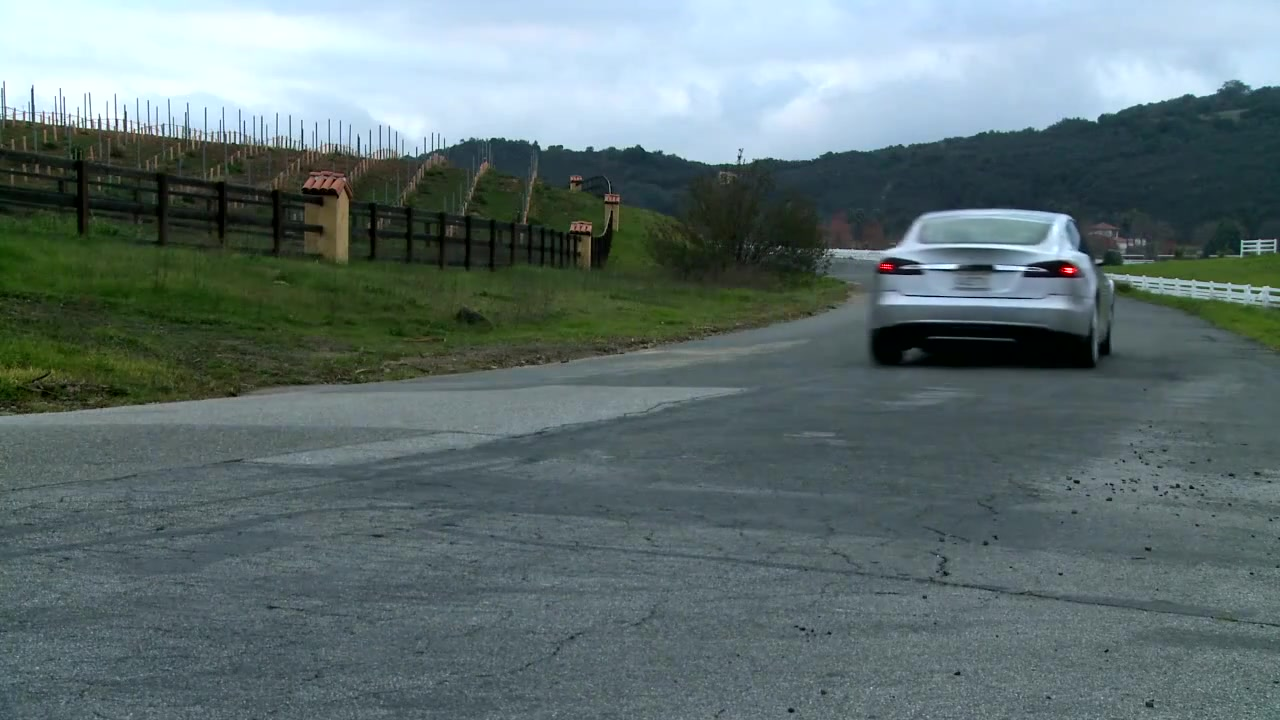car: (864, 206, 1127, 367)
